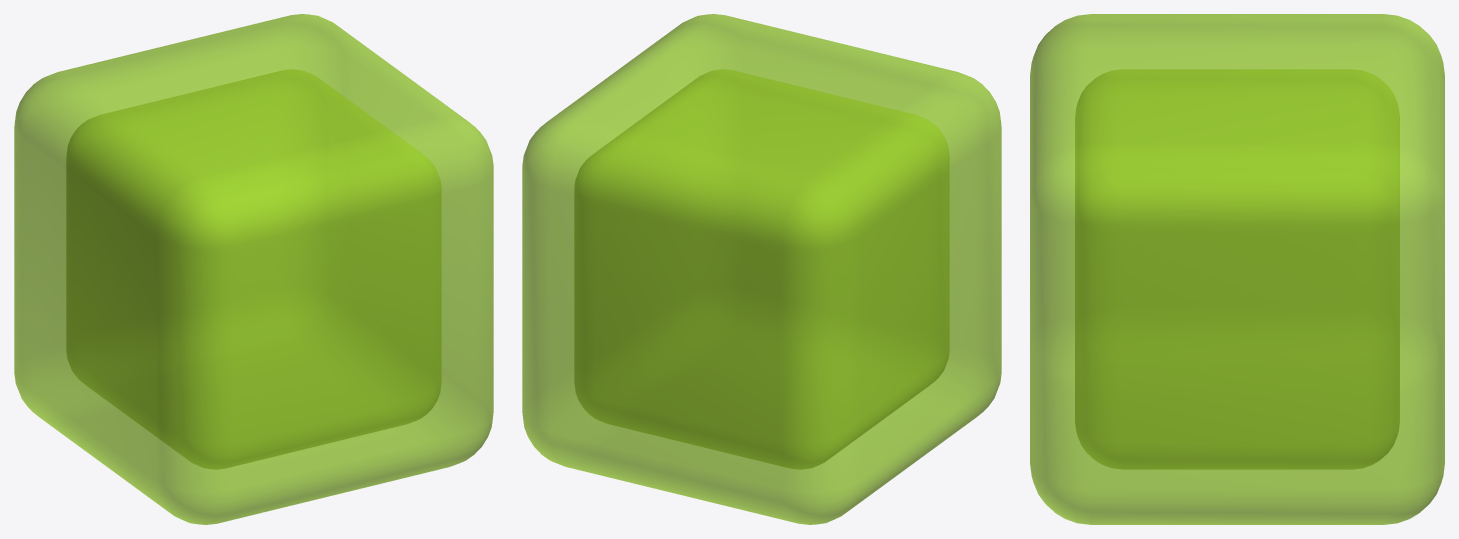
The model's file is SPblock_JellySlime 1.fbx.
3 views of the same model, side by side, from view 1: azimuth 30°, elevation 25°; view 2: azimuth 150°, elevation 25°; view 3: azimuth 270°, elevation 25° (orthographic). The views are drawn at different scales.
Visible parts, largest first — view 1: 큐브, 큐브.001; view 2: 큐브, 큐브.001; view 3: 큐브, 큐브.001.
Part boxes in pixels (left/top/right/bottom): 큐브: left=14, top=14, right=493, bottom=524; 큐브.001: left=66, top=69, right=441, bottom=469; 큐브: left=522, top=14, right=1001, bottom=524; 큐브.001: left=574, top=69, right=949, bottom=469; 큐브: left=1030, top=14, right=1444, bottom=524; 큐브.001: left=1075, top=69, right=1399, bottom=469.
Size of the model in its own units: 30398 by 30398 by 30398.
